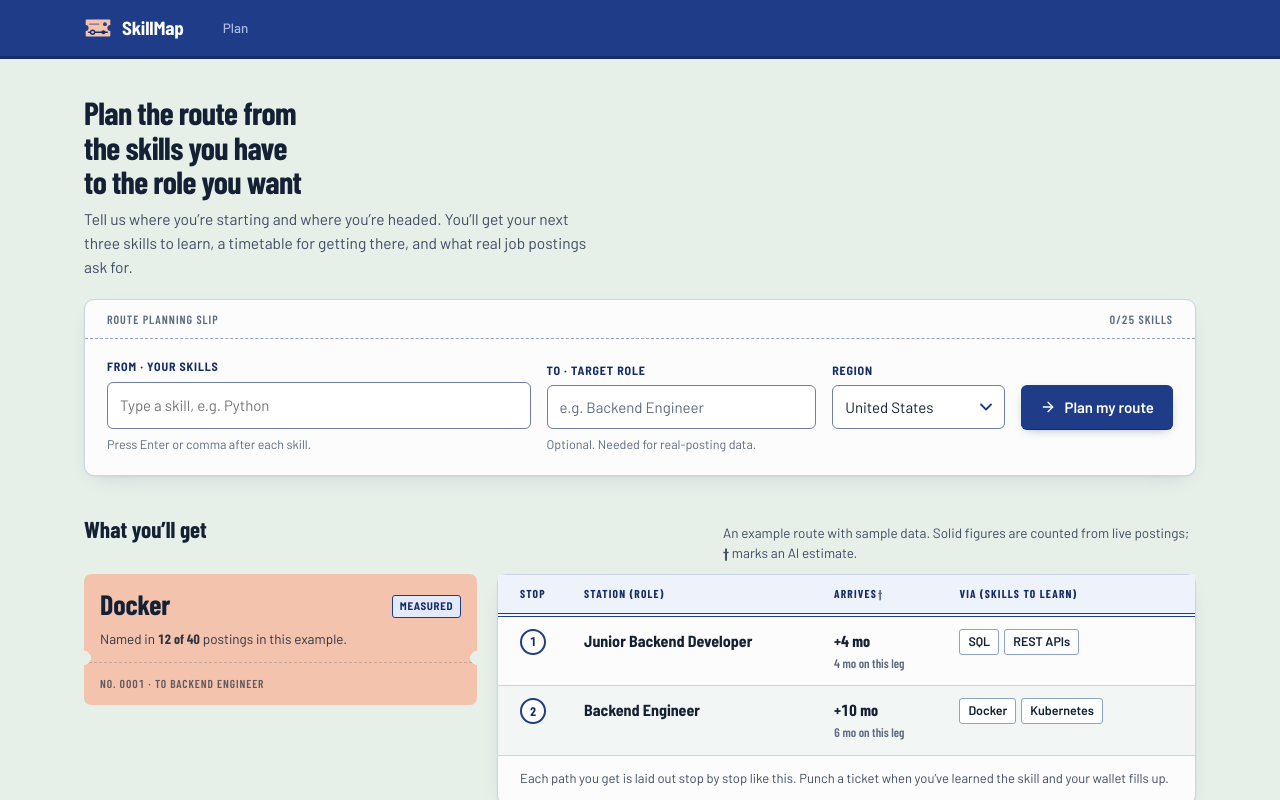
Test: App: slip → tickets → timetable › submits, then shows measured tickets, timetable, postings and estimate labels
Type "JavaScript" into the dropdown labelled "From · your skills" at (319, 406), box [116, 389, 522, 422]
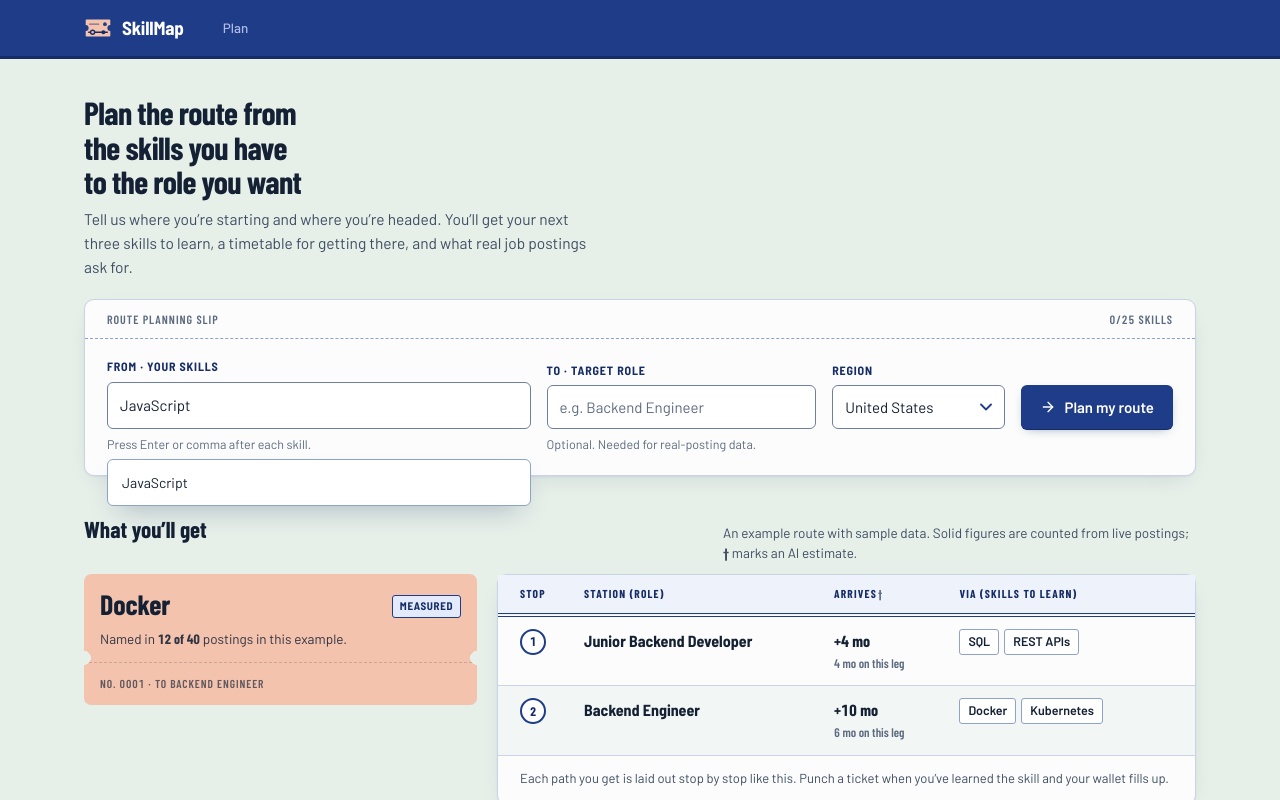
Press Enter in the dropdown labelled "From · your skills", box [116, 389, 522, 422]
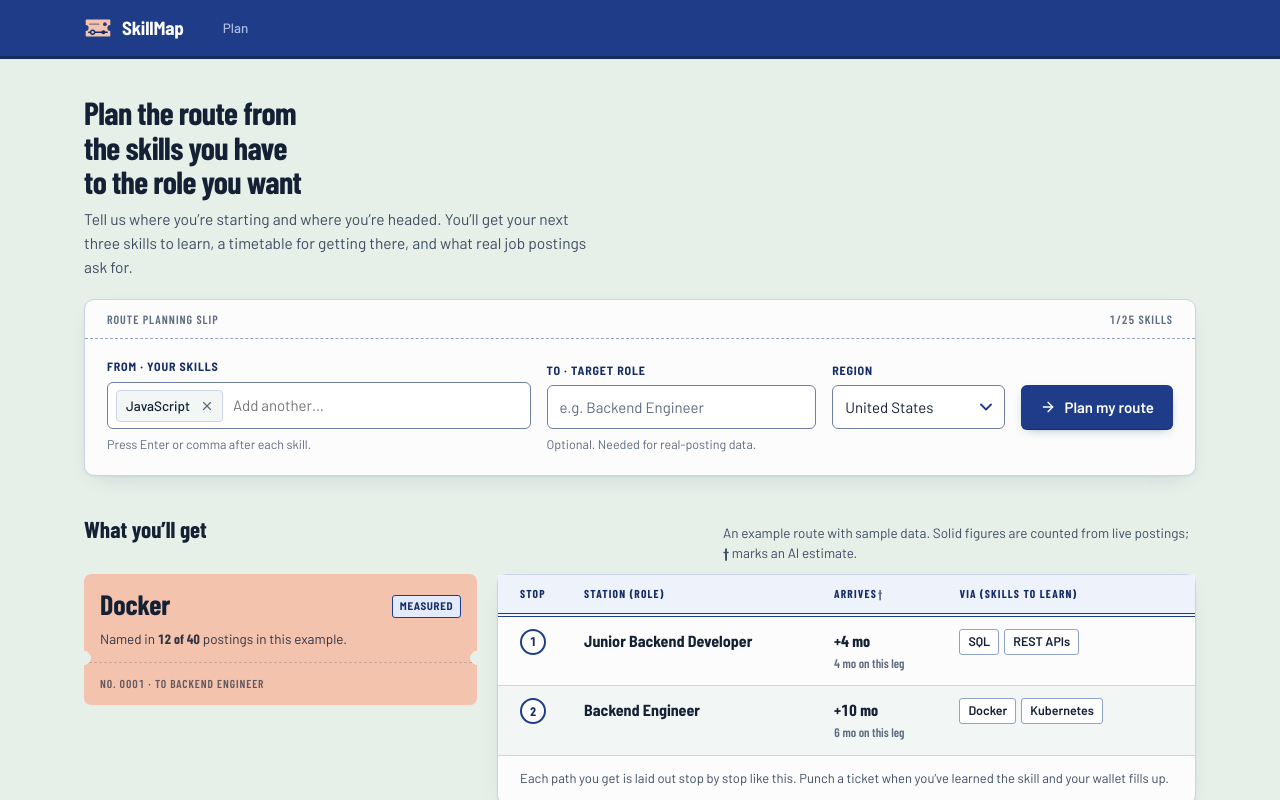
Type "React" into the dropdown labelled "From · your skills" at (375, 406), box [229, 389, 522, 422]
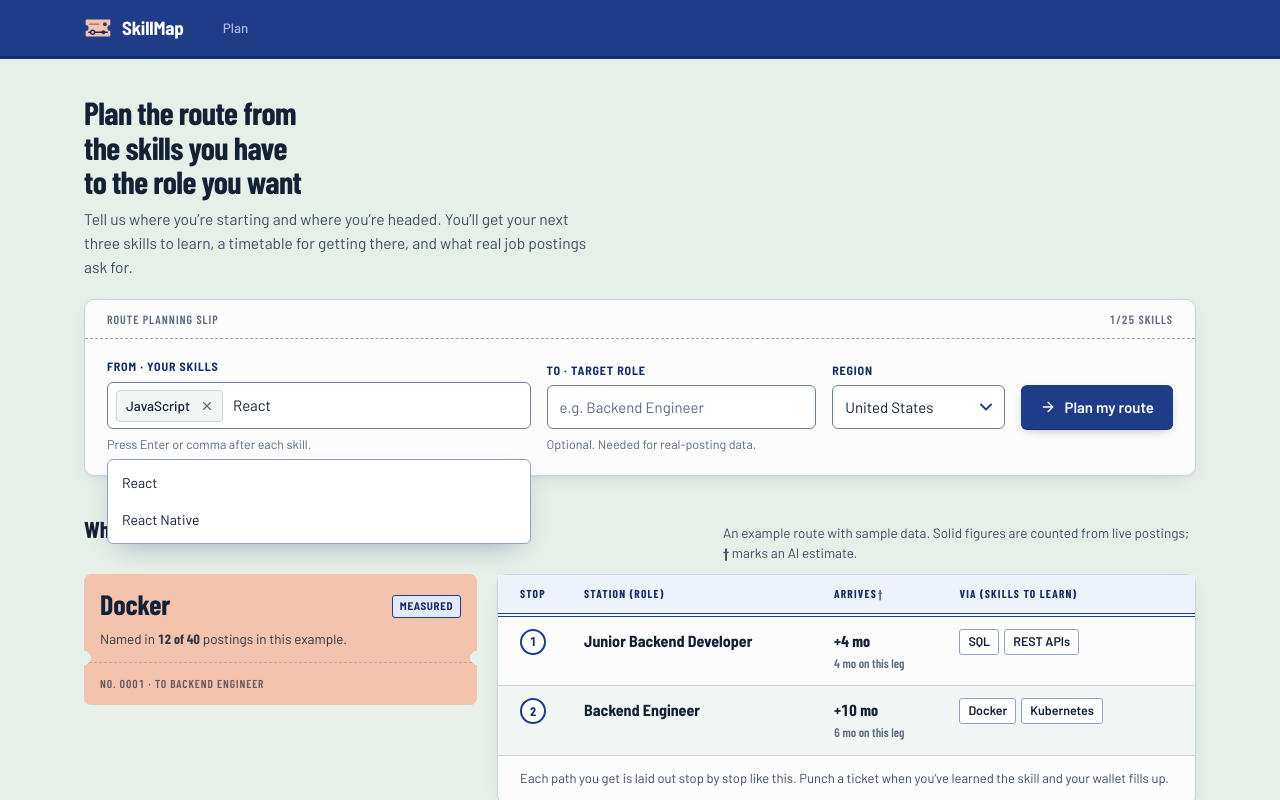
Press Enter in the dropdown labelled "From · your skills", box [229, 389, 522, 422]
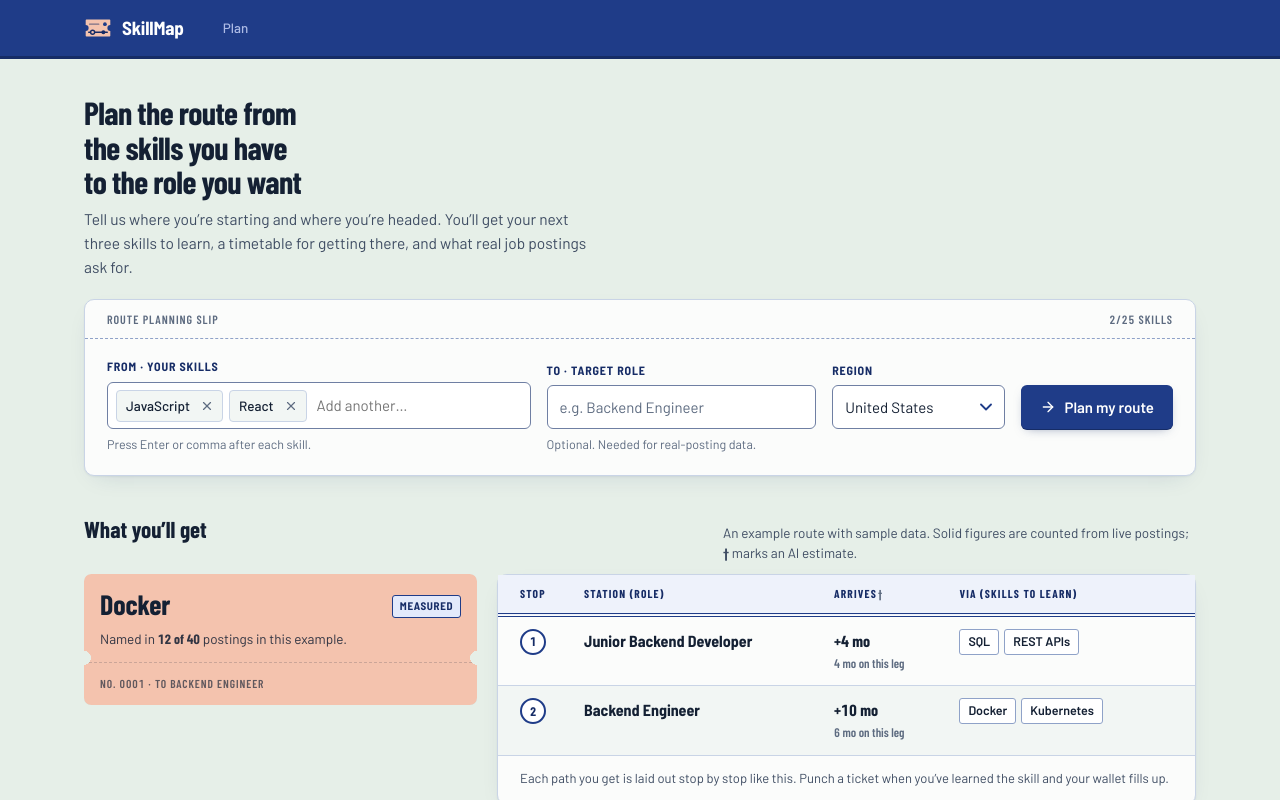
Type "Full Stack Developer" into the dropdown labelled "To · target role" at (681, 407), box [547, 385, 816, 429]
Click the button "Plan my route" at (1097, 407), box [1022, 385, 1173, 429]
(page scrolled)
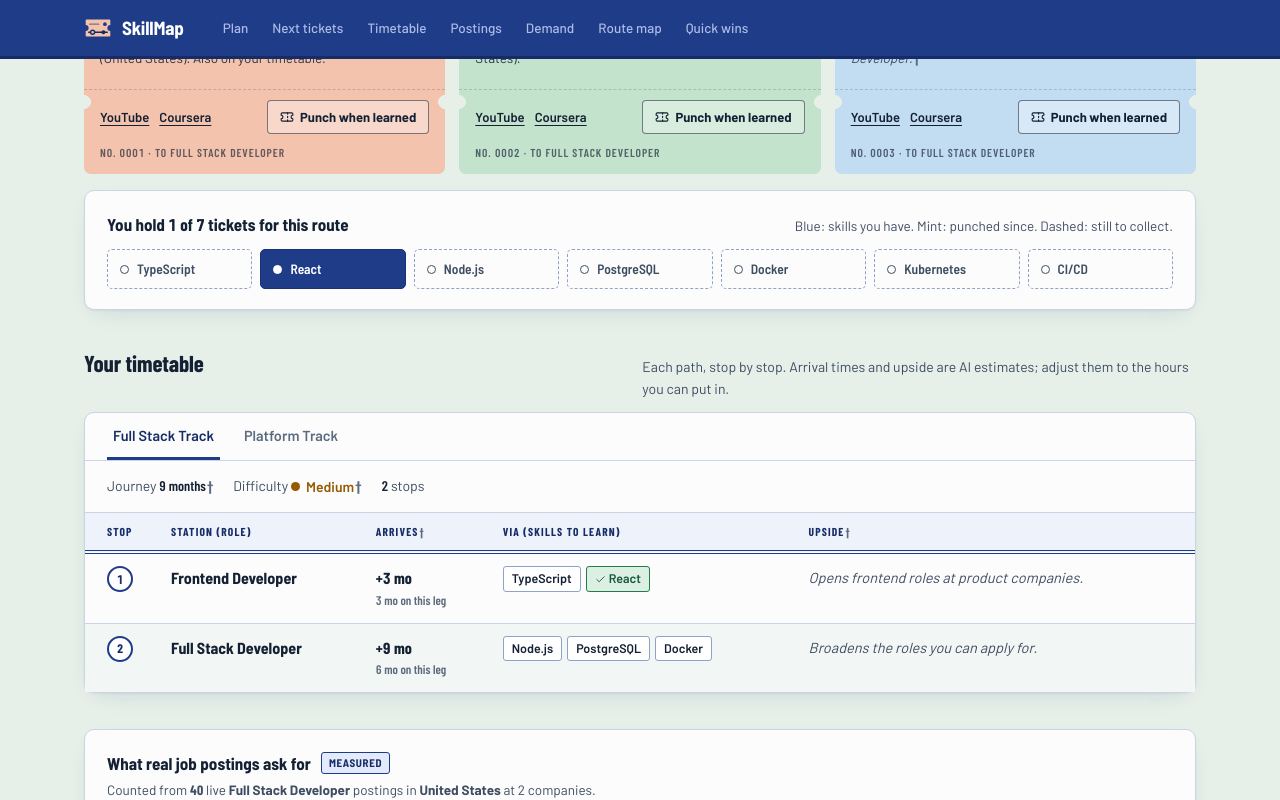
Check: the text "12 of 40" is shown, box [158, 30, 200, 47]
Check: the heading "What real job postings ask for" is shown, box [107, 750, 311, 776]
Click the tab "Platform Track" at (291, 436), box [238, 412, 344, 460]
(page scrolled)
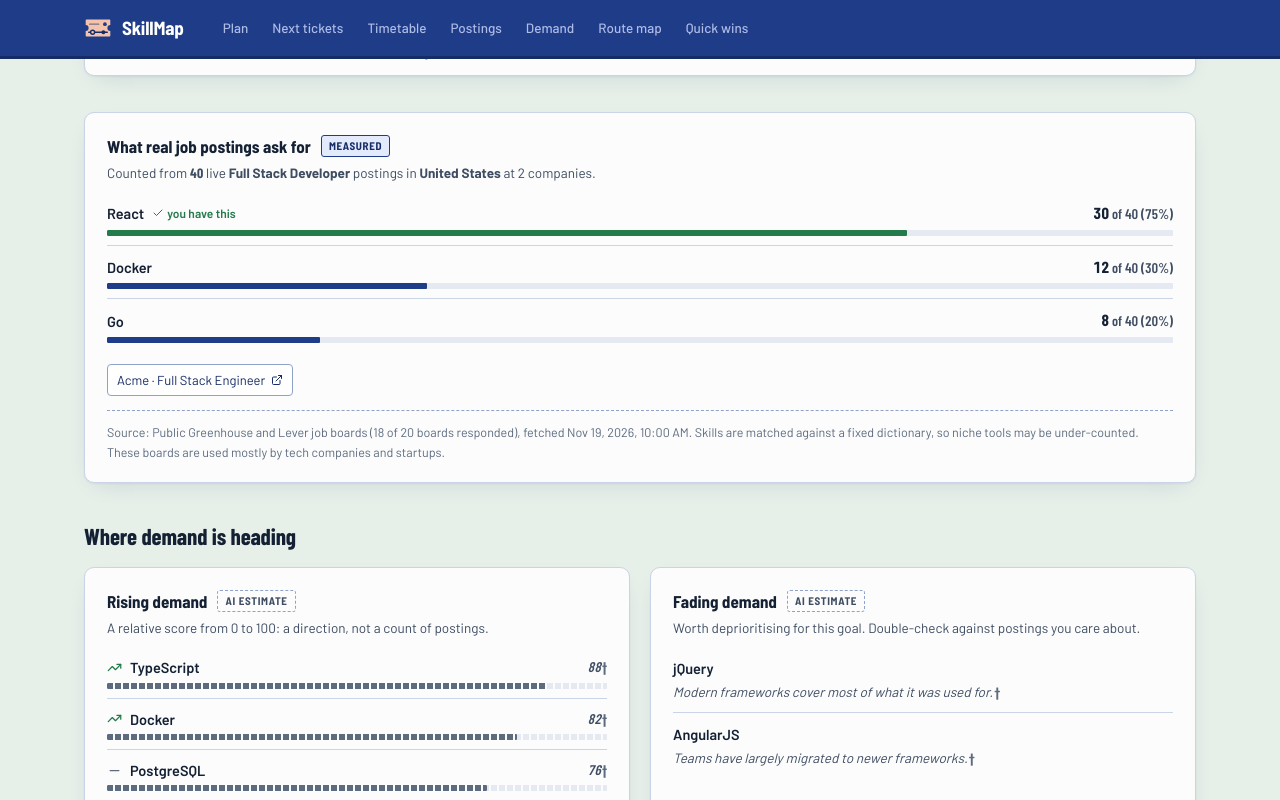
Check: the text "30 of 40 (75%)" is shown, box [1093, 201, 1173, 226]
Check: the text "you have this" is shown, box [152, 204, 236, 222]
Check: the text "DevOps Engineer" is shown, box [157, 4, 345, 75]
